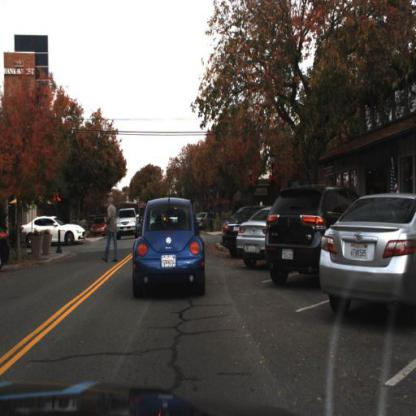car: (318, 191, 416, 317), (265, 185, 364, 292), (128, 191, 209, 308), (238, 202, 278, 269), (221, 201, 264, 262), (21, 213, 87, 251), (117, 208, 142, 240), (1, 217, 11, 269), (91, 213, 110, 238)
pedestrian: (101, 197, 122, 263)
